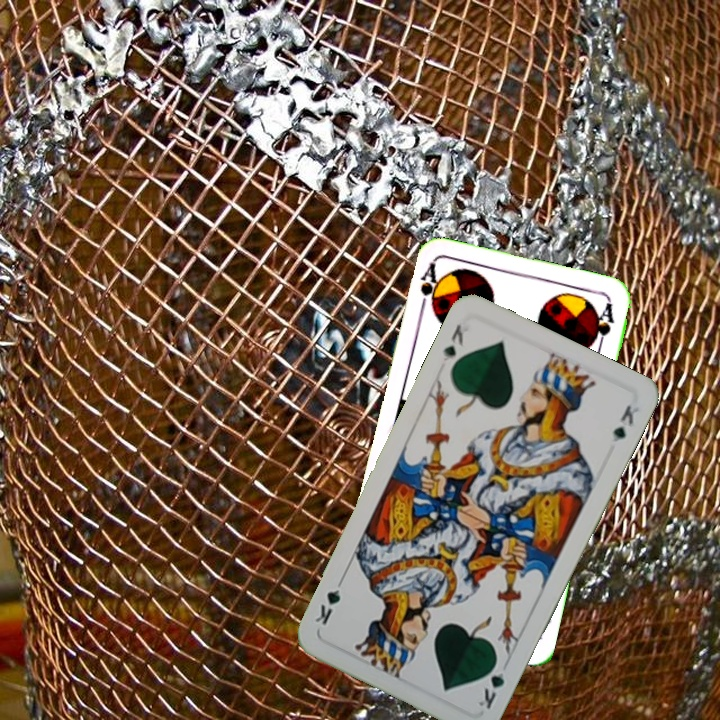GK: (472, 655, 507, 712), (438, 319, 467, 364)
SA: (414, 260, 440, 319)
